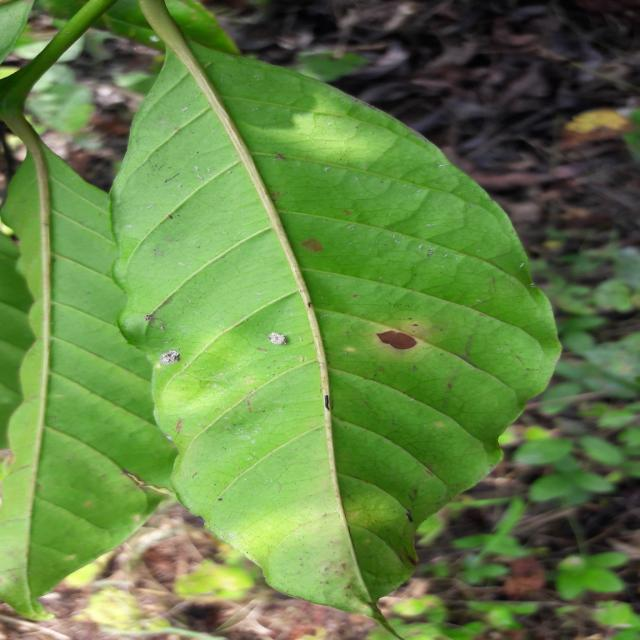Enfermedad-Roya: (109, 0, 562, 618)
